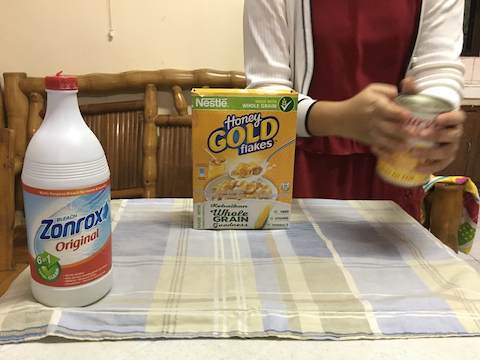bottle: (19, 73, 118, 309)
box: (187, 85, 300, 236)
can: (375, 90, 454, 189)
grab: (354, 80, 414, 161), (418, 106, 468, 177)
